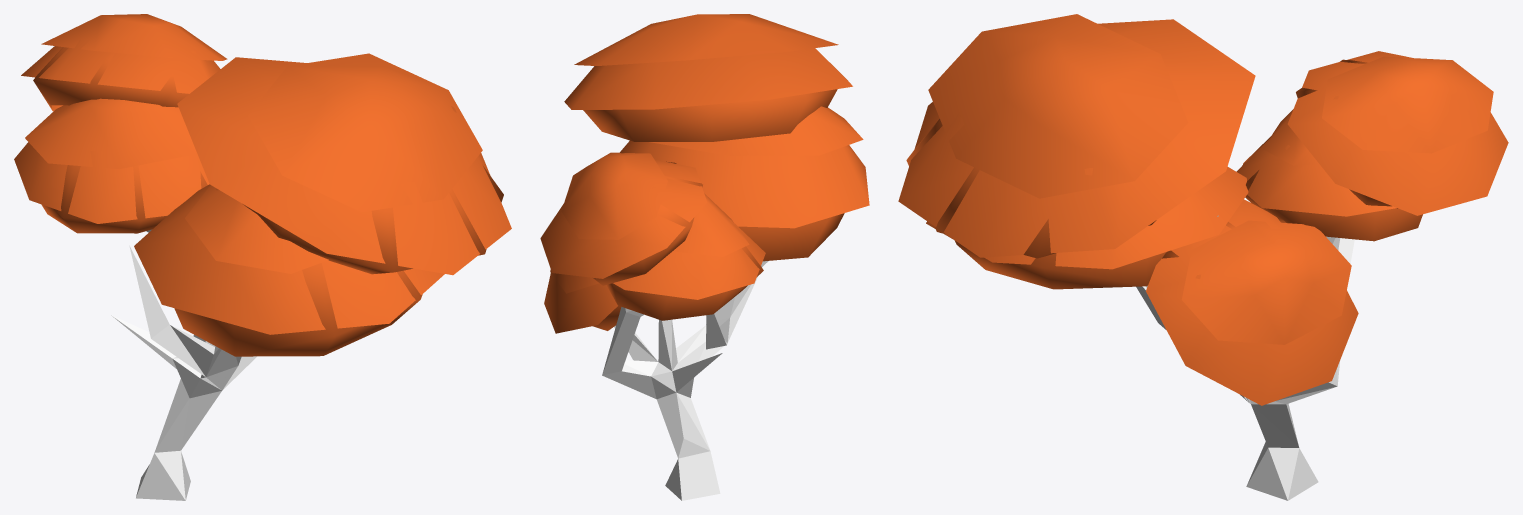
File: Tree (4).fbx
3 renders of one model, left to right at view 1: azimuth 30°, elevation 25°; view 2: azimuth 150°, elevation 25°; view 3: azimuth 270°, elevation 25°, orthographic. The views are drawn at different scales.
Parts seen in each view (by area): view 1: Cube.056, Cube.054; view 2: Cube.056, Cube.054; view 3: Cube.056, Cube.054.
Part boxes in pixels (x1,y1,x2,y2): Cube.056: [14, 14, 511, 356]; Cube.054: [111, 229, 256, 500]; Cube.056: [540, 14, 869, 333]; Cube.054: [602, 261, 768, 500]; Cube.056: [898, 14, 1508, 405]; Cube.054: [1136, 215, 1354, 500].
Bounding box in the file's own units: 1499 × 1952 × 2268.
